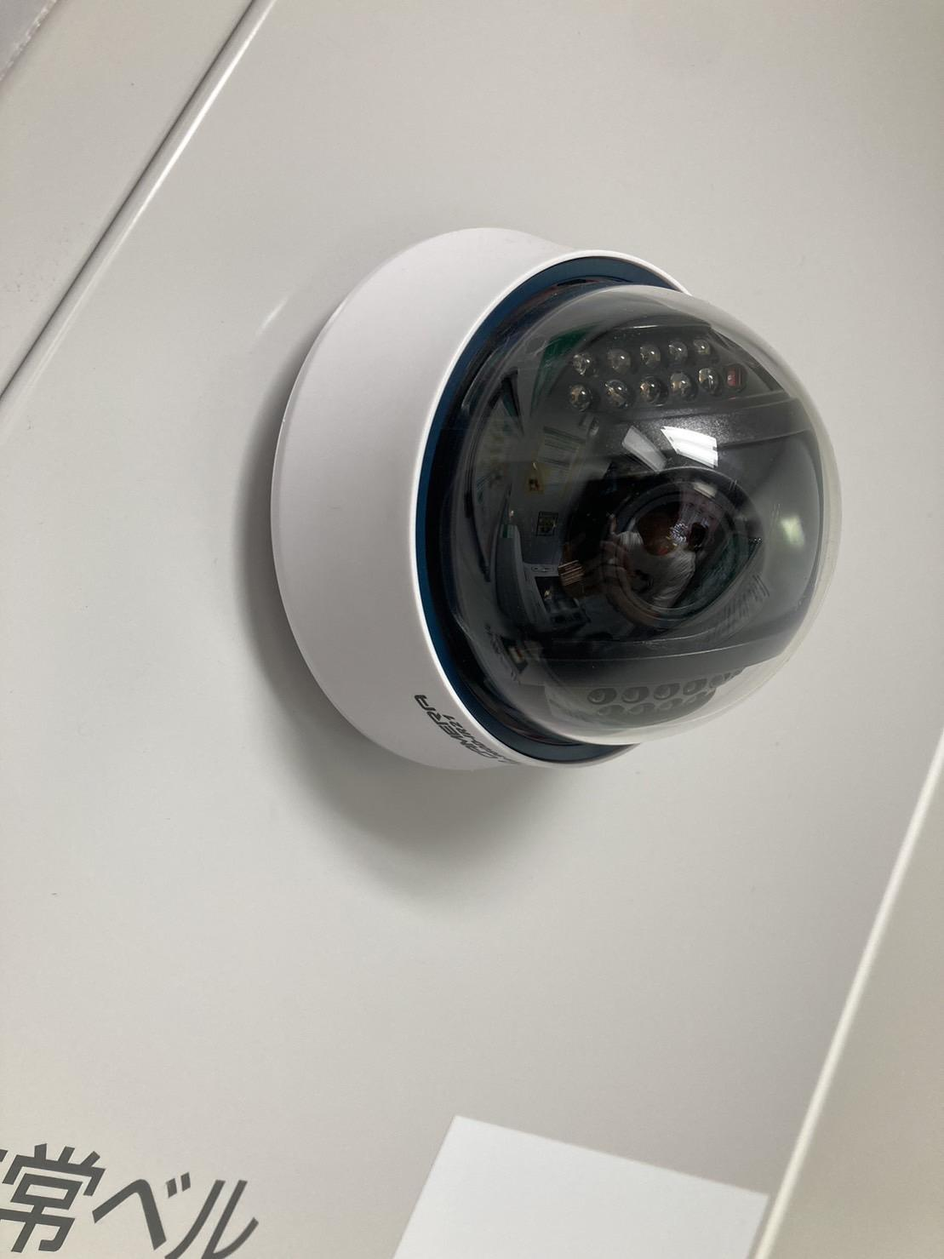maru: (255, 213, 862, 800)
